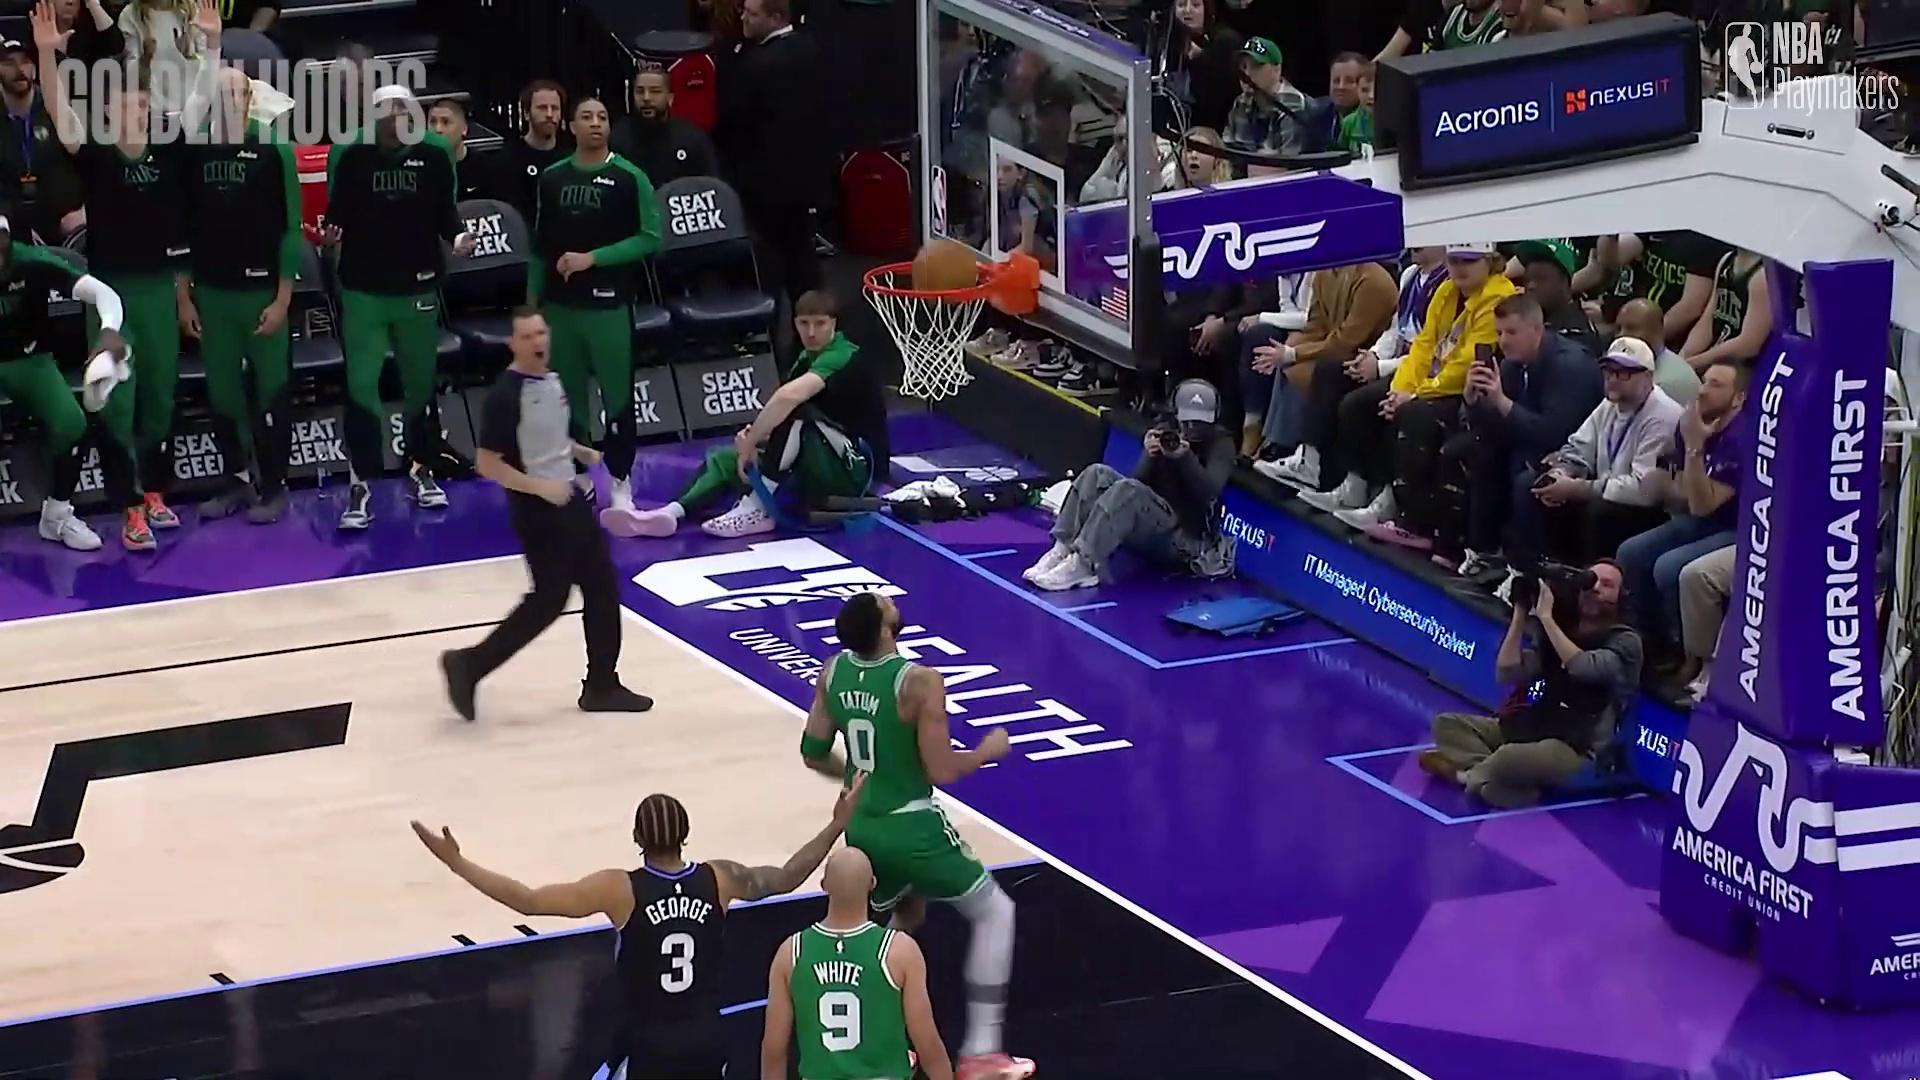ball: (916, 240, 973, 285)
hoop: (858, 274, 990, 397)
